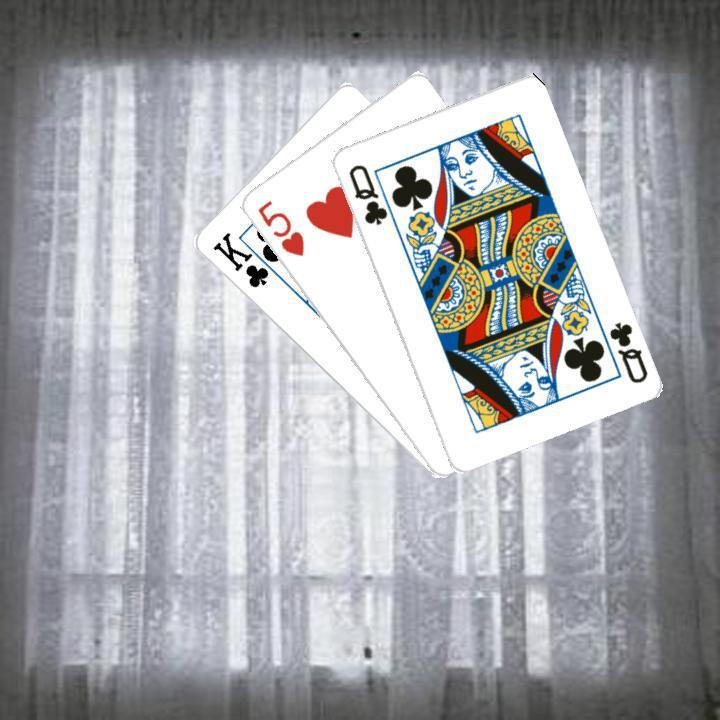5: (252, 195, 306, 258)
K: (208, 227, 283, 290)
Q: (343, 159, 389, 227), (604, 317, 649, 385)
